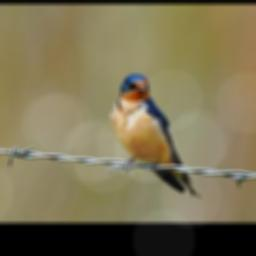Swallow: (108, 72, 202, 198)
